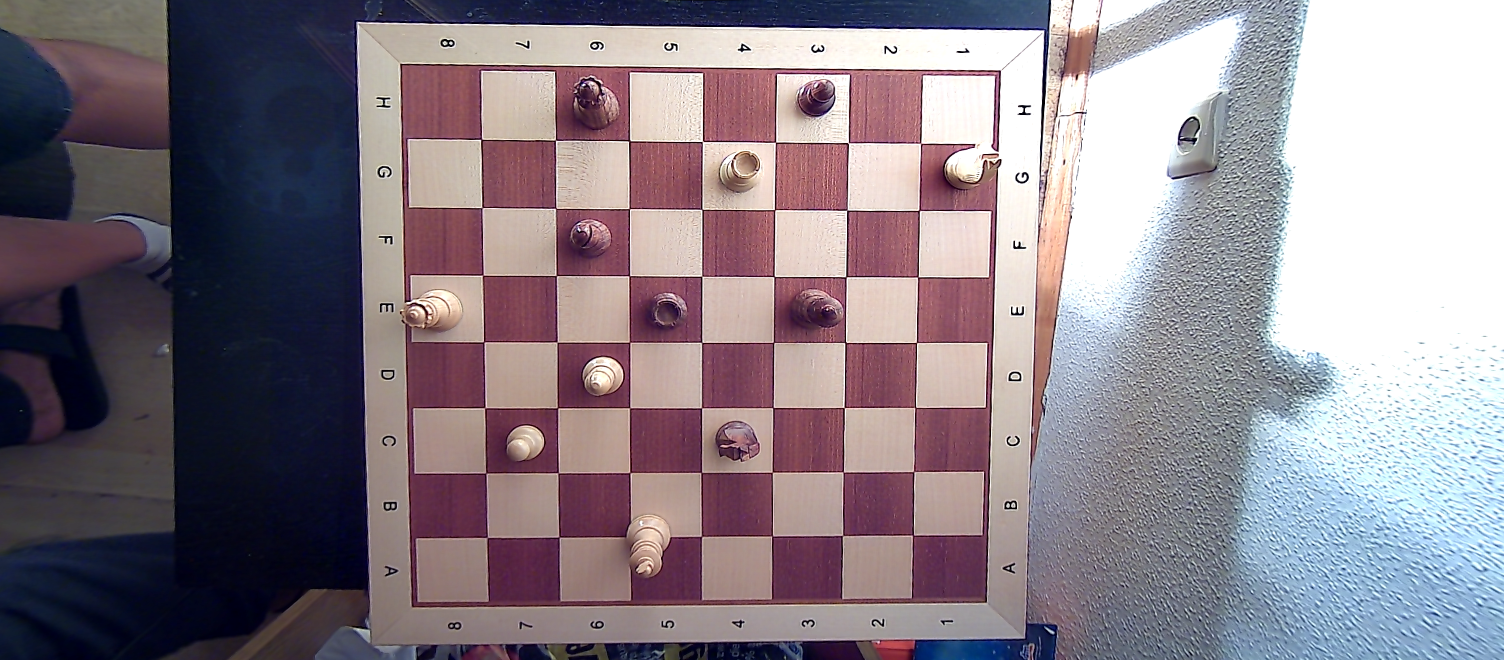black-bishop: (566, 213, 614, 261)
black-king: (787, 285, 846, 335)
black-knight: (712, 414, 764, 467)
black-pawn: (789, 75, 841, 120)
black-queen: (570, 74, 622, 131)
black-rook: (642, 287, 691, 331)
white-bishop: (577, 353, 627, 403)
white-king: (622, 510, 673, 582)
white-knight: (943, 138, 1003, 191)
white-pawn: (500, 420, 548, 466)
white-queen: (399, 287, 463, 334)
white-rook: (714, 146, 771, 198)
